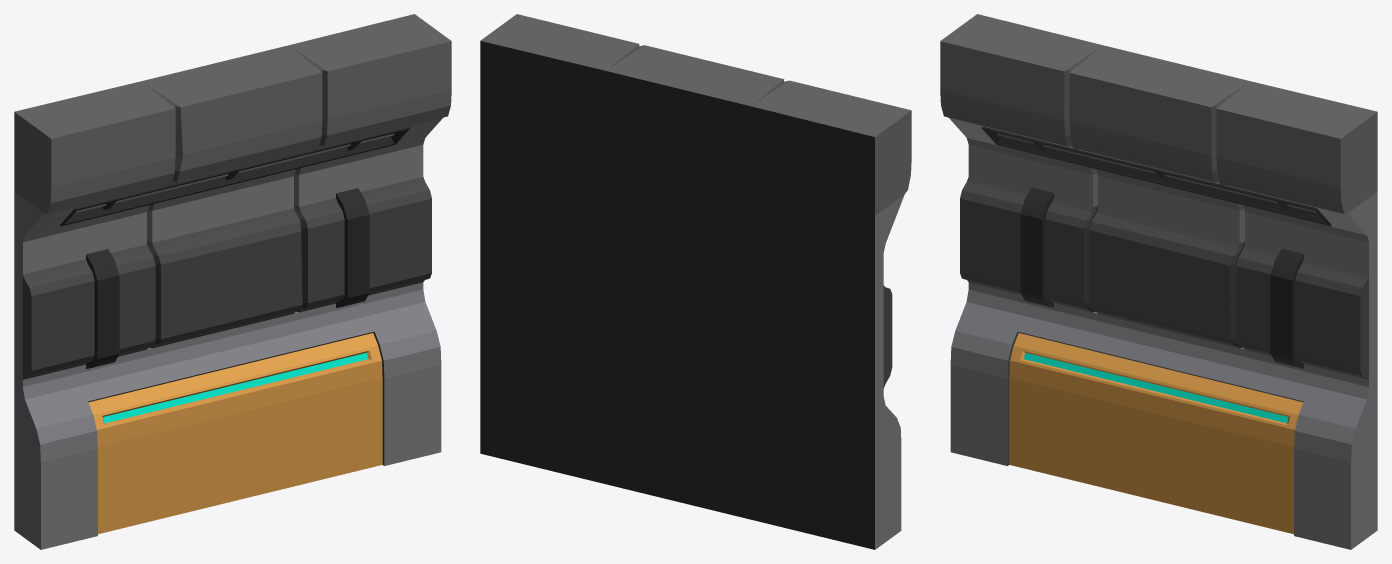
Rendered from SM_Bld_Wall_02.glb.
The picture shows the model from 3 angles, left to right: view 1: azimuth 30°, elevation 25°; view 2: azimuth 150°, elevation 25°; view 3: azimuth 330°, elevation 25°; orthographic projection.
Visible parts, largest first — view 1: SM_Bld_Wall_02; view 2: SM_Bld_Wall_02; view 3: SM_Bld_Wall_02.
Boxes of the visible parts, bbox=[...] form: SM_Bld_Wall_02: bbox=[14, 14, 451, 549]; SM_Bld_Wall_02: bbox=[480, 14, 911, 549]; SM_Bld_Wall_02: bbox=[940, 14, 1377, 549].
Bounding box in the file's own units: 5 × 5 × 0.8032.
Materials: 1 (1 with a texture image).
